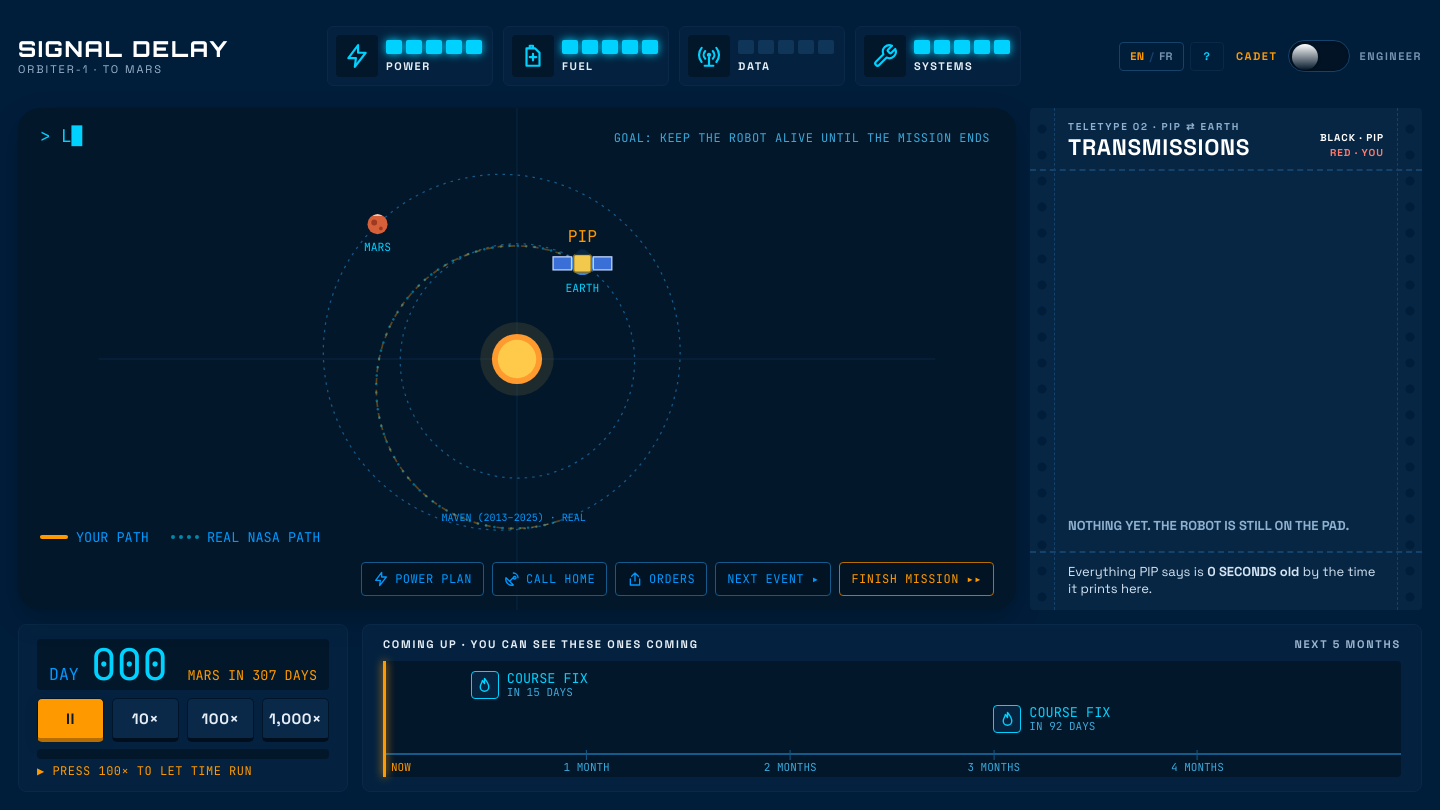
Test case: Fly & Survive: danger card › a danger card stops time and shows the engine’s hazard, times and choices
The width and height of the screenshot is (1440, 810).
Click the button "NEXT EVENT ▸" at [773, 579], box [715,562,831,596]
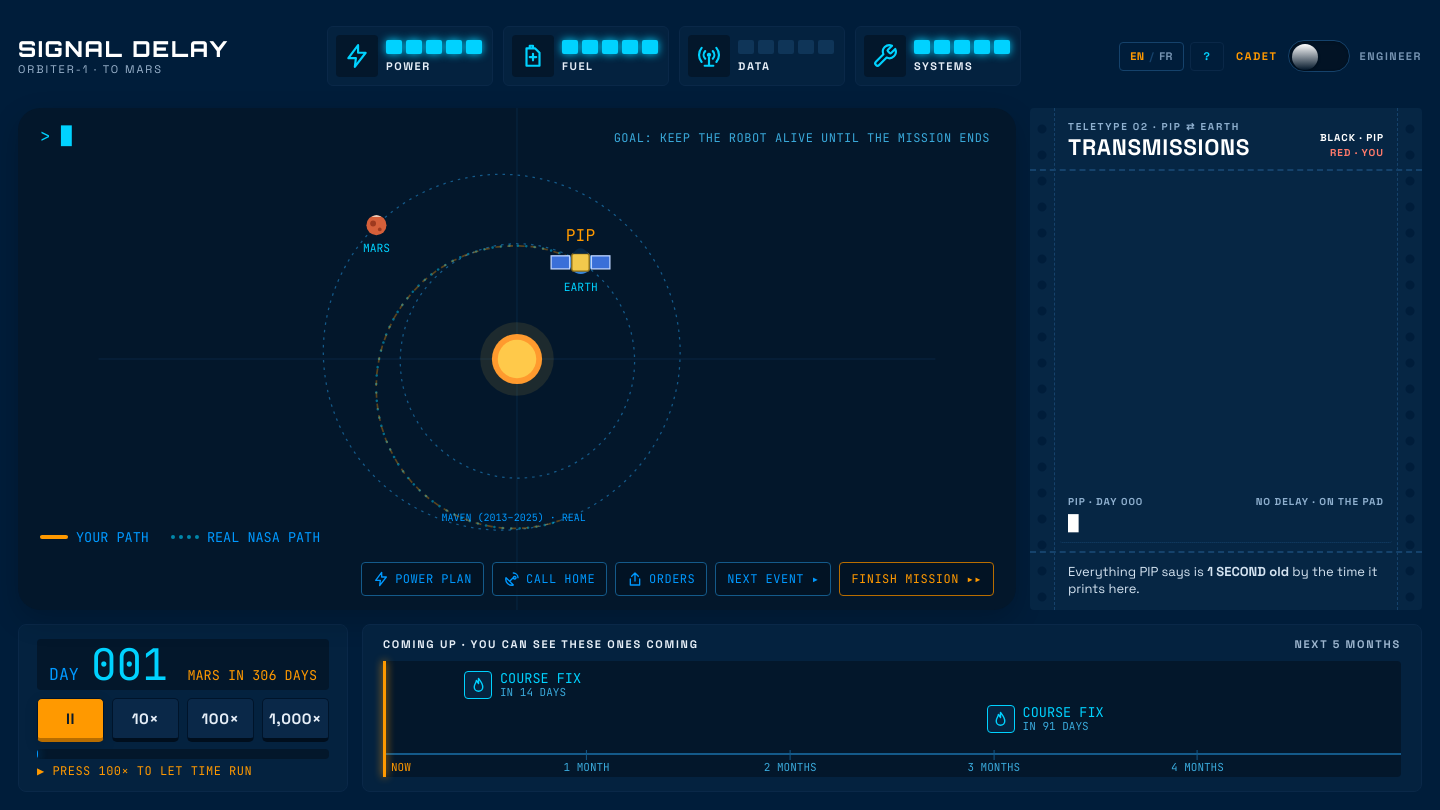
Click the button "NEXT EVENT ▸" at [773, 579], box [715,562,831,596]
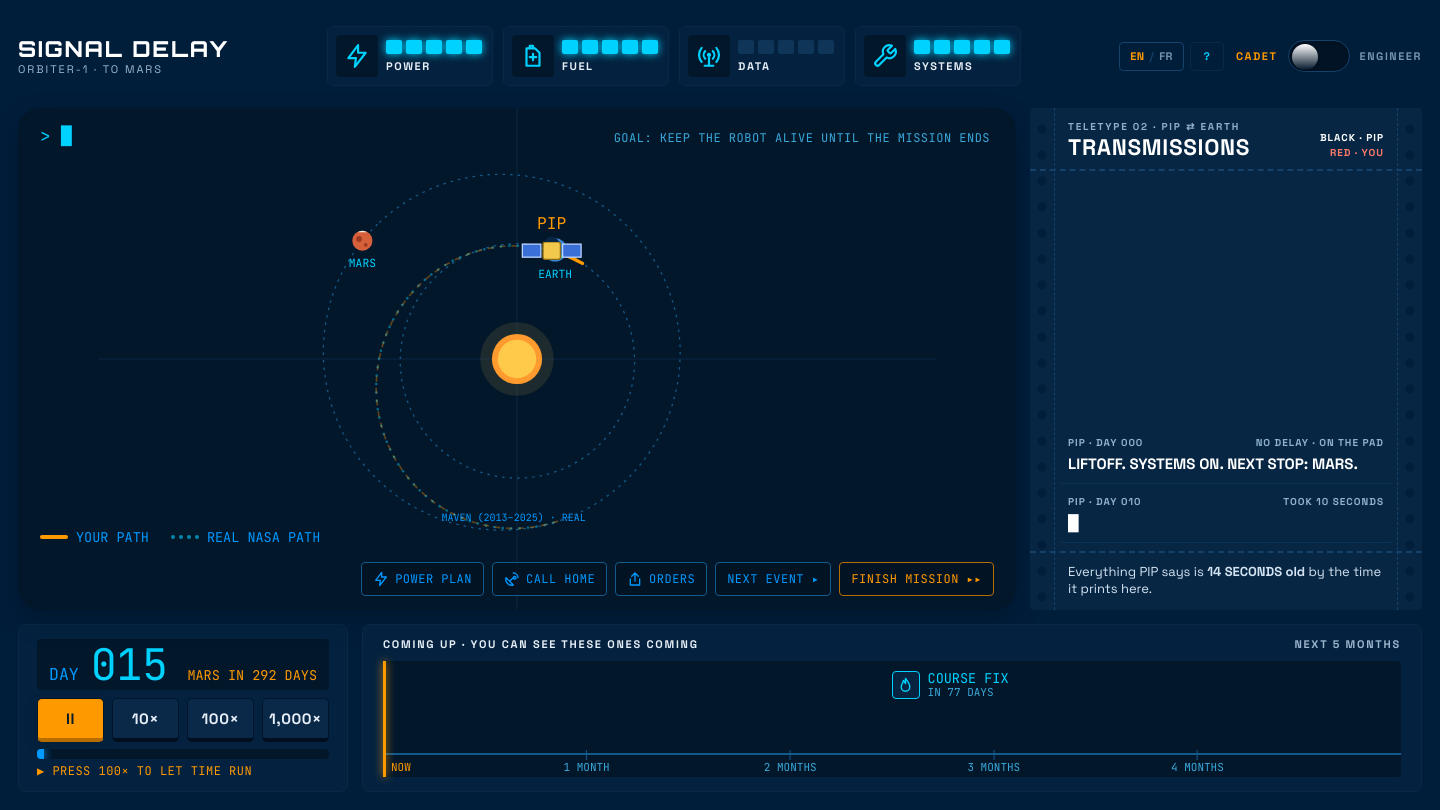
Click the button "NEXT EVENT ▸" at [773, 579], box [715,562,831,596]
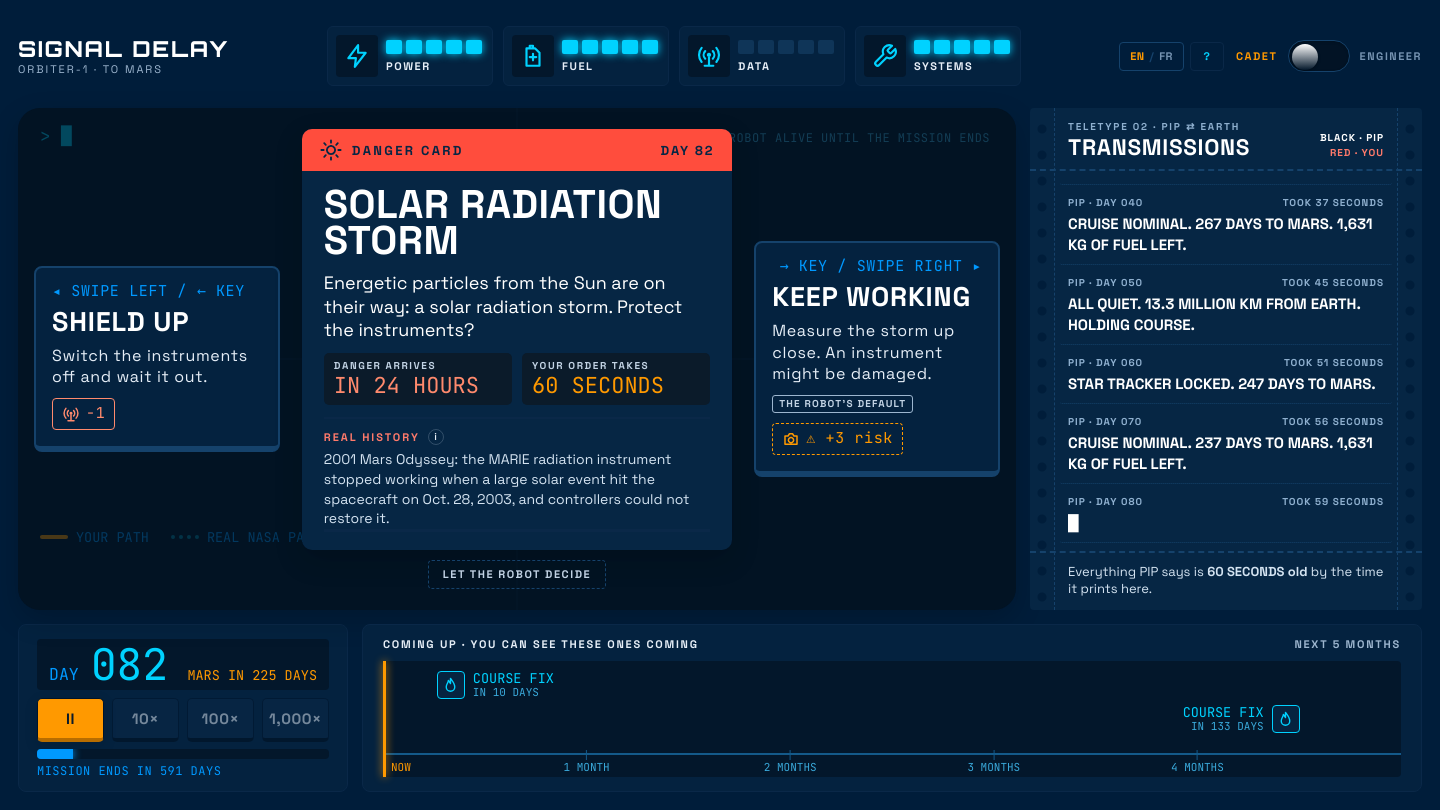
Expected: the button named "100× speed" is disabled, [187,698,254,742]
